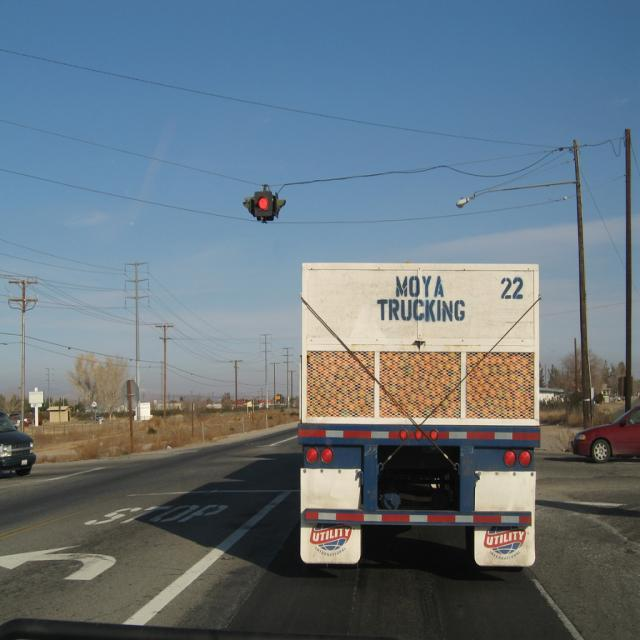traffic light: (243, 189, 288, 223)
